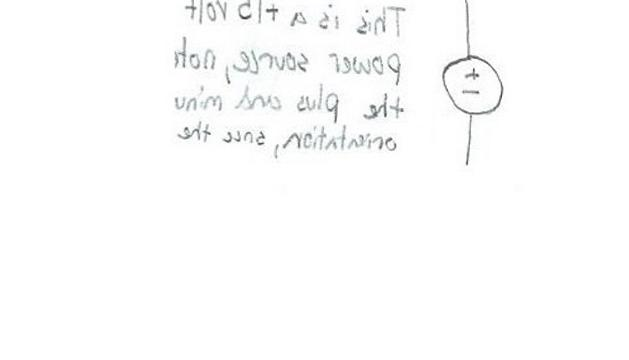Battery: (421, 40, 519, 129)
